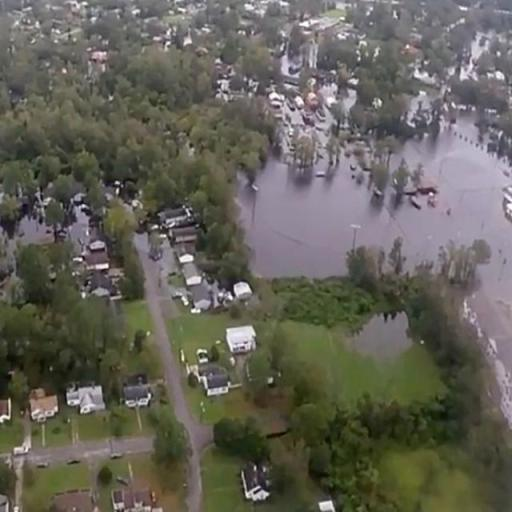flood: (241, 118, 512, 376), (350, 315, 412, 360)
house: (193, 344, 231, 395), (67, 382, 105, 416), (240, 464, 272, 499), (29, 388, 60, 423), (116, 480, 152, 510), (224, 324, 258, 354), (122, 378, 151, 410), (55, 490, 94, 512), (89, 273, 112, 298), (86, 251, 110, 272), (182, 262, 203, 285), (168, 226, 198, 242), (174, 242, 194, 264)
